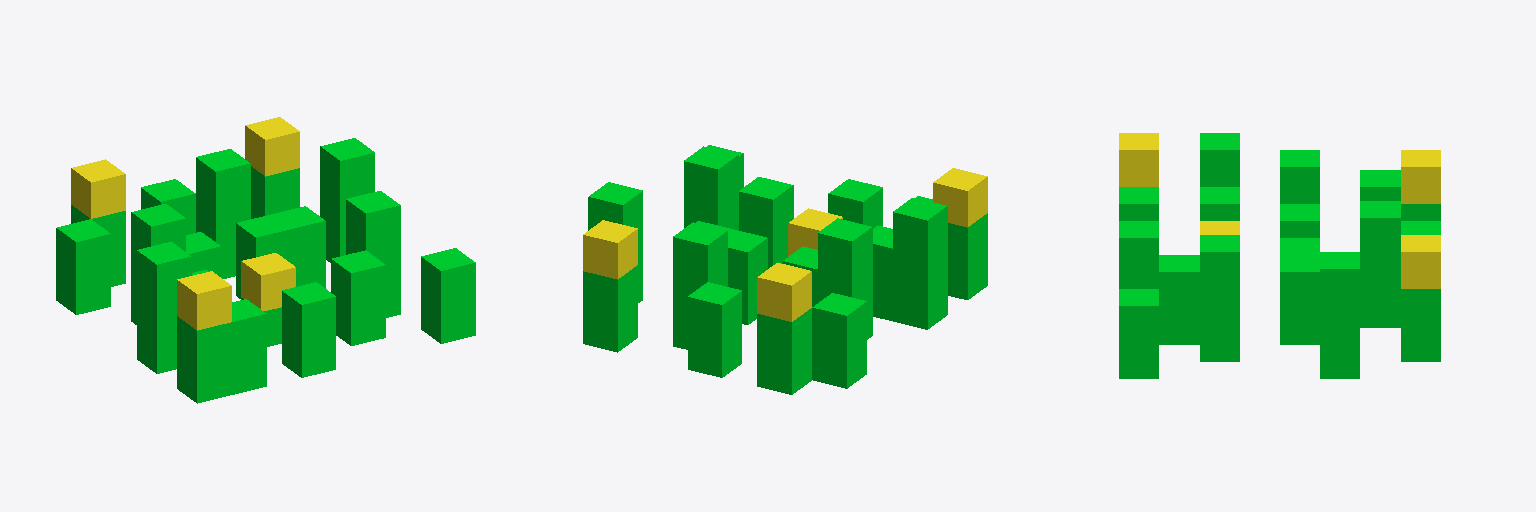
3 views of the same model, side by side, from view 1: azimuth 30°, elevation 25°; view 2: azimuth 150°, elevation 25°; view 3: azimuth 270°, elevation 25° (orthographic).
Visible parts, largest first — view 1: object 1; view 2: object 1; view 3: object 1.
Boxes of the visible parts, <box> form: object 1: <box>56,117,475,403</box>; object 1: <box>583,145,987,394</box>; object 1: <box>1119,133,1440,378</box>.
Size of the model in its own units: 0.8 by 0.3 by 0.8.
1 materials, 1 textured.